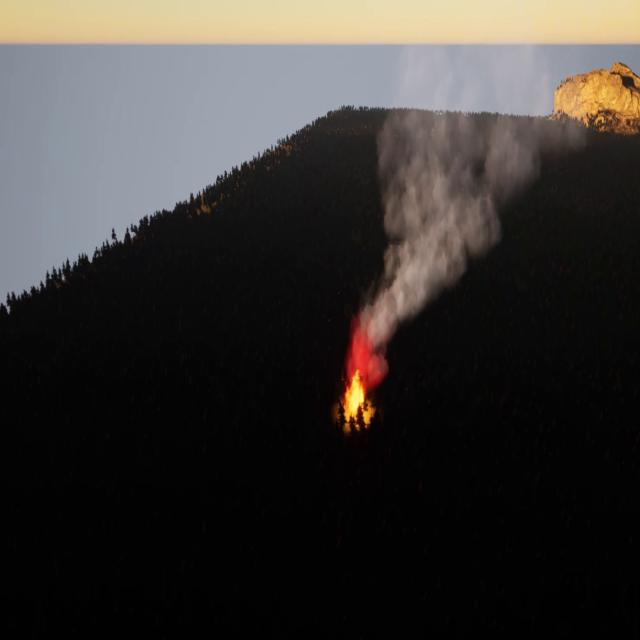fire: (348, 374, 376, 416)
smoke: (349, 44, 589, 377)
